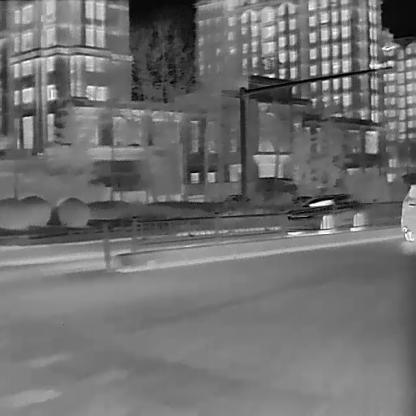car: (285, 192, 365, 236), (398, 184, 415, 241), (222, 192, 251, 204)
truck: (254, 176, 299, 206)
